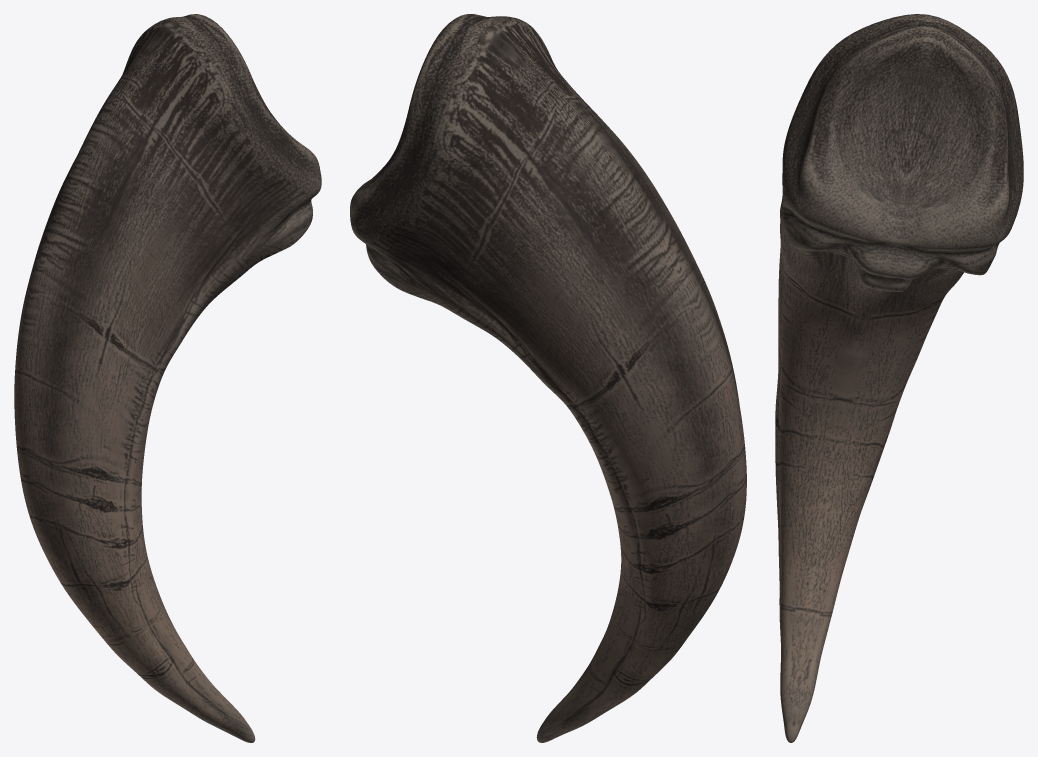
The model's file is Claw.fbx.
3 renders of one model, left to right at view 1: azimuth 30°, elevation 25°; view 2: azimuth 150°, elevation 25°; view 3: azimuth 270°, elevation 25°, orthographic. The views are drawn at different scales.
Parts seen in each view (by area): view 1: Claw; view 2: Claw; view 3: Claw.
Boxes of the visible parts, left/top/right/bottom form: Claw: left=14, top=14, right=321, bottom=742; Claw: left=350, top=14, right=746, bottom=742; Claw: left=775, top=14, right=1023, bottom=742.
Bounding box in the file's own units: 121 × 270 × 84.37.
